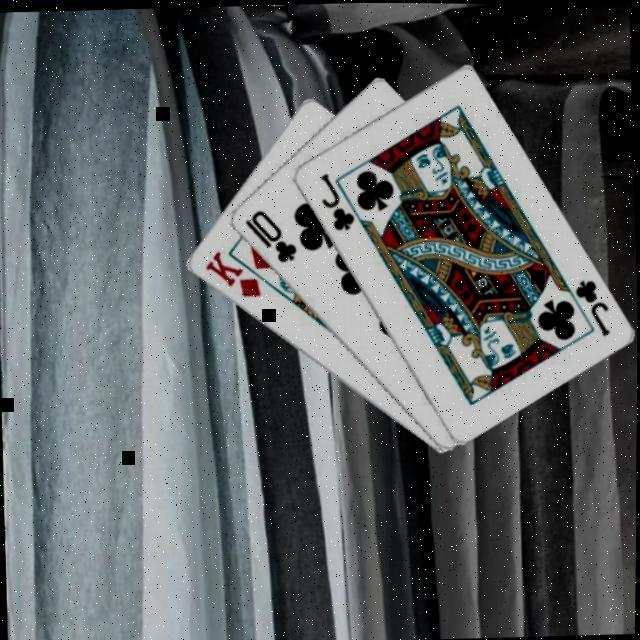10C: (240, 205, 300, 267)
JC: (572, 275, 614, 340), (318, 169, 359, 234)
KD: (202, 247, 264, 302)
